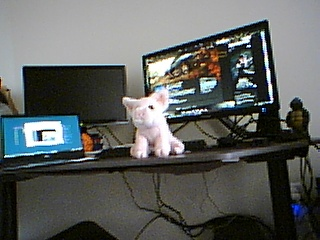piggy: (120, 87, 186, 159)
